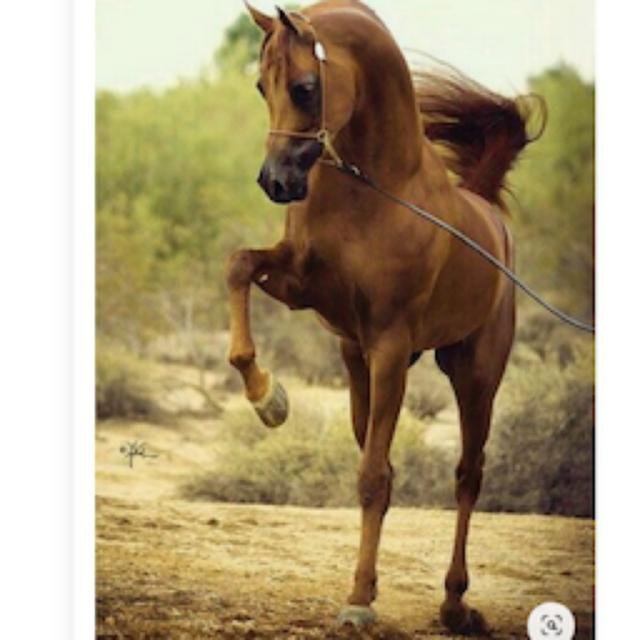Horse: (212, 0, 550, 638)
